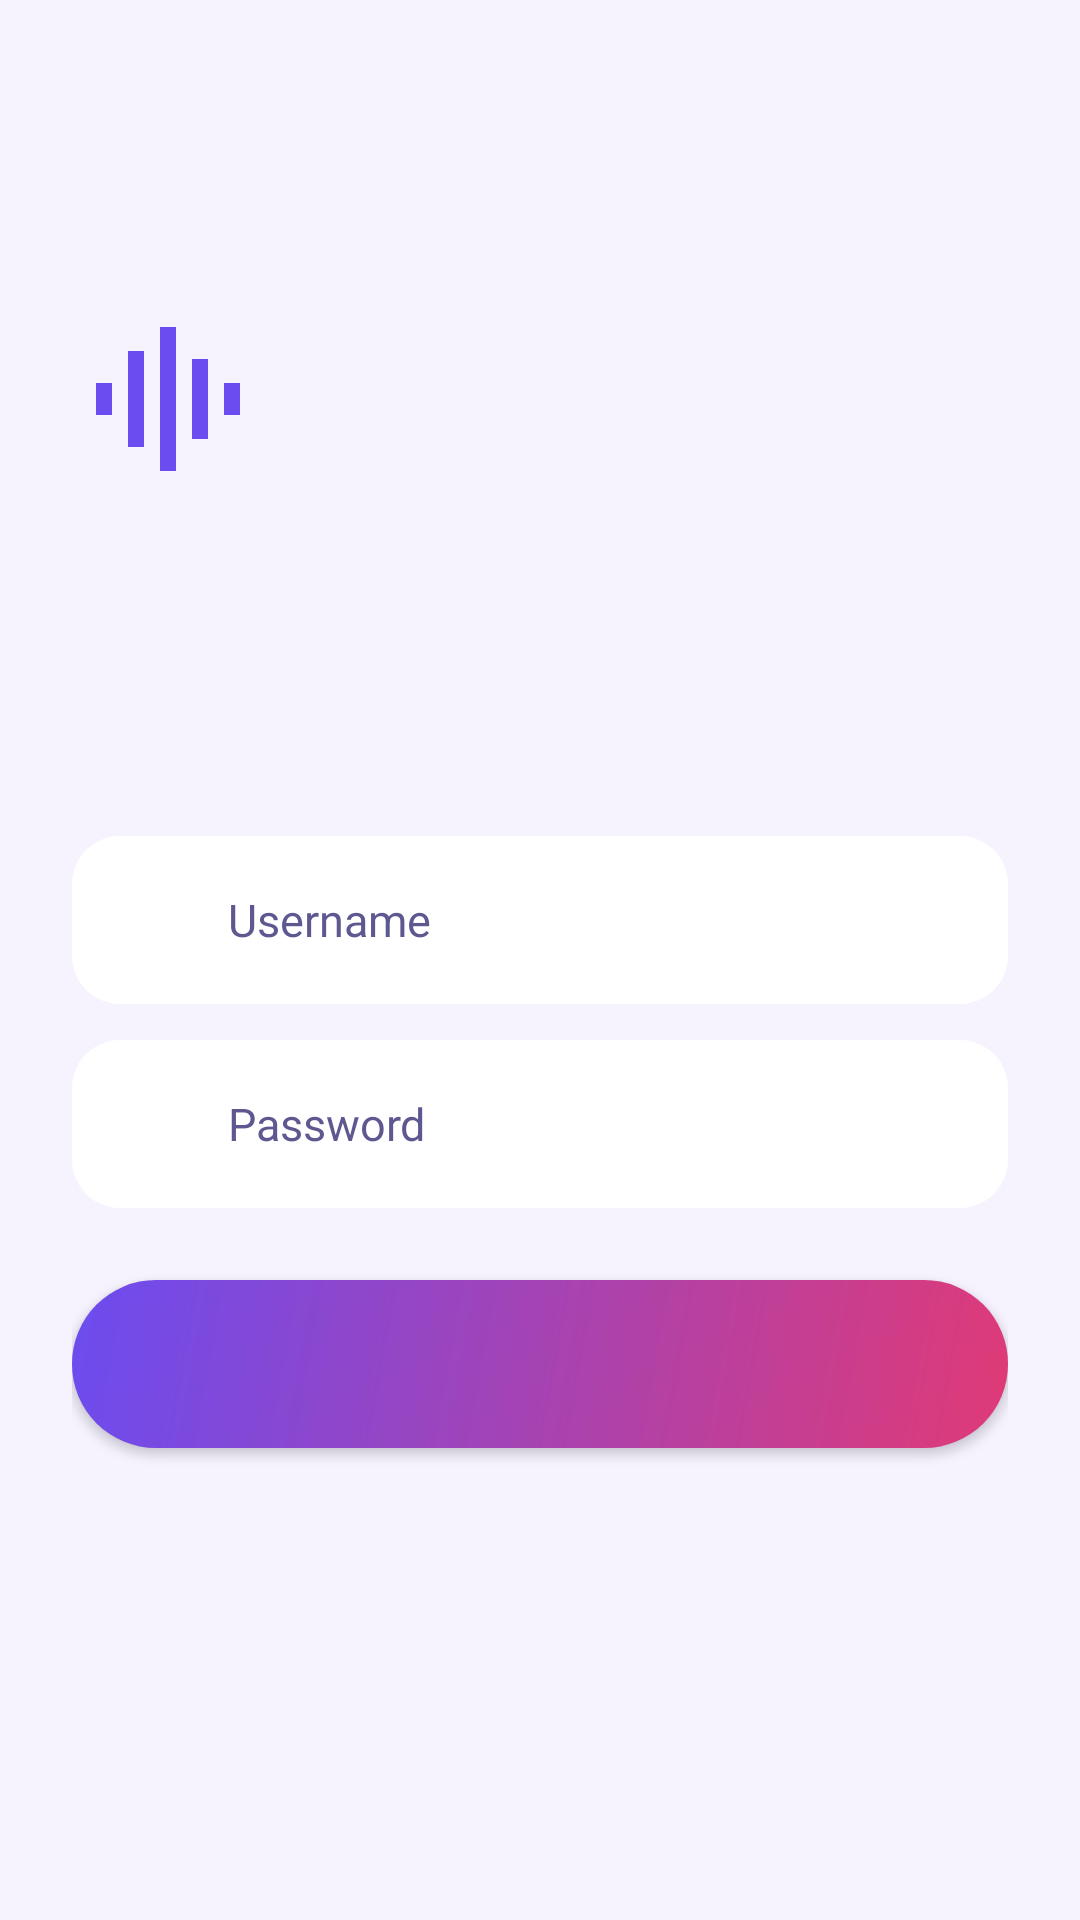

Screen size 1080*1920. Icon name, then its center in pixels as [x,y]:
wave: [168,399]
